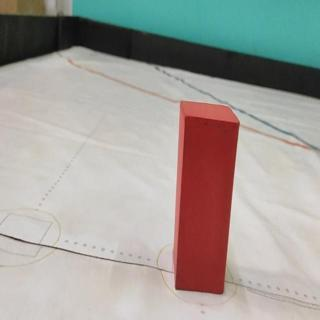redbox: (173, 101, 240, 295)
